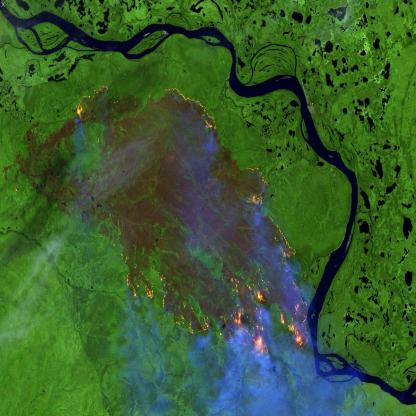fire: (75, 85, 313, 359)
